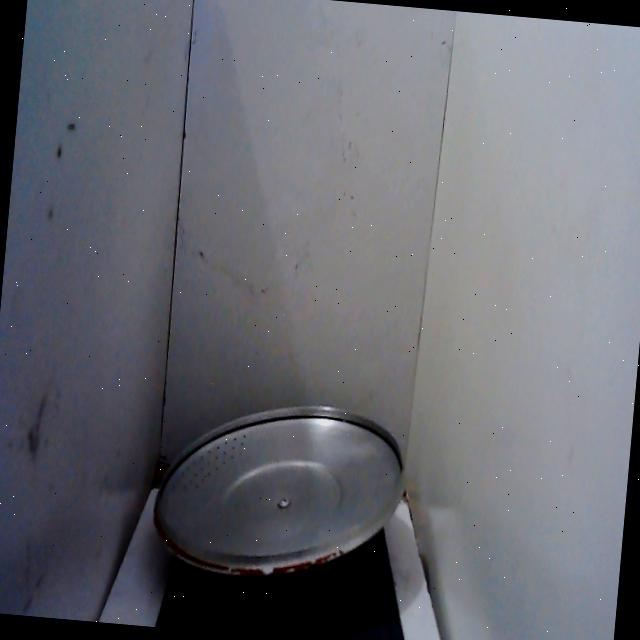metal: (143, 381, 414, 598)
